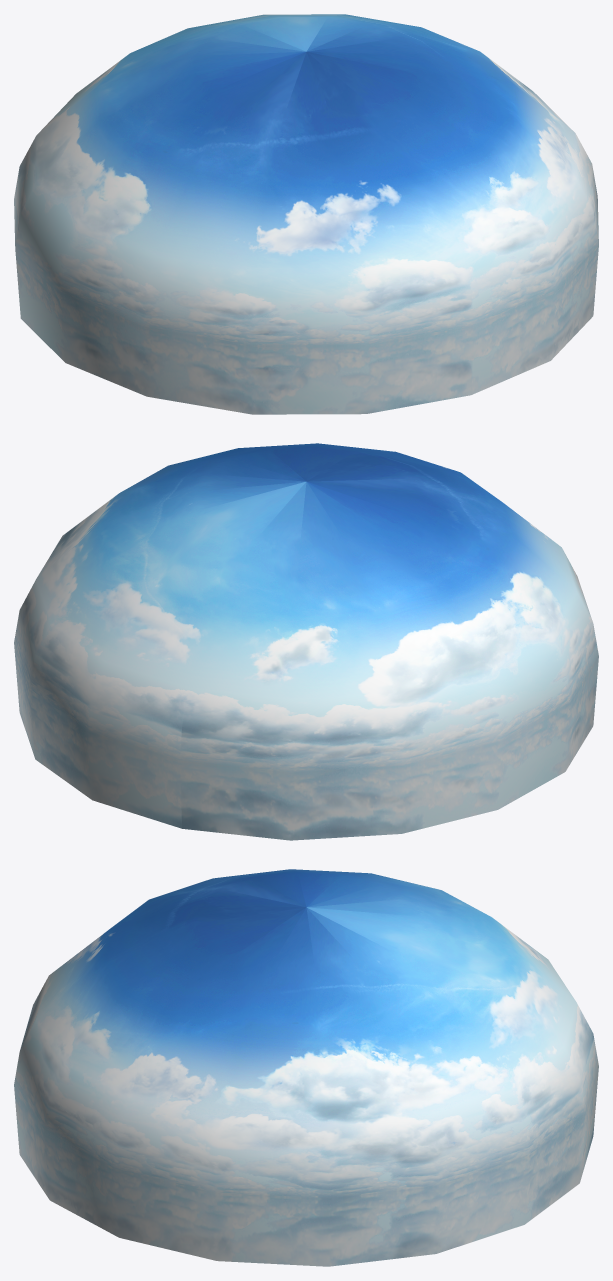
Rendered from Scene_Garage03__Sky01.fbx.
The picture shows the model from 3 angles, top to bottom: view 1: azimuth 30°, elevation 25°; view 2: azimuth 150°, elevation 25°; view 3: azimuth 270°, elevation 25°; orthographic projection.
Parts seen in each view (by area): view 1: Scene_Garage03__Sky01; view 2: Scene_Garage03__Sky01; view 3: Scene_Garage03__Sky01.
Part boxes in pixels (x1,y1,x2,y2): Scene_Garage03__Sky01: (14,14,598,414); Scene_Garage03__Sky01: (14,443,598,840); Scene_Garage03__Sky01: (14,869,598,1266).
Size of the model in its own units: 62777 by 28198 by 62770.
